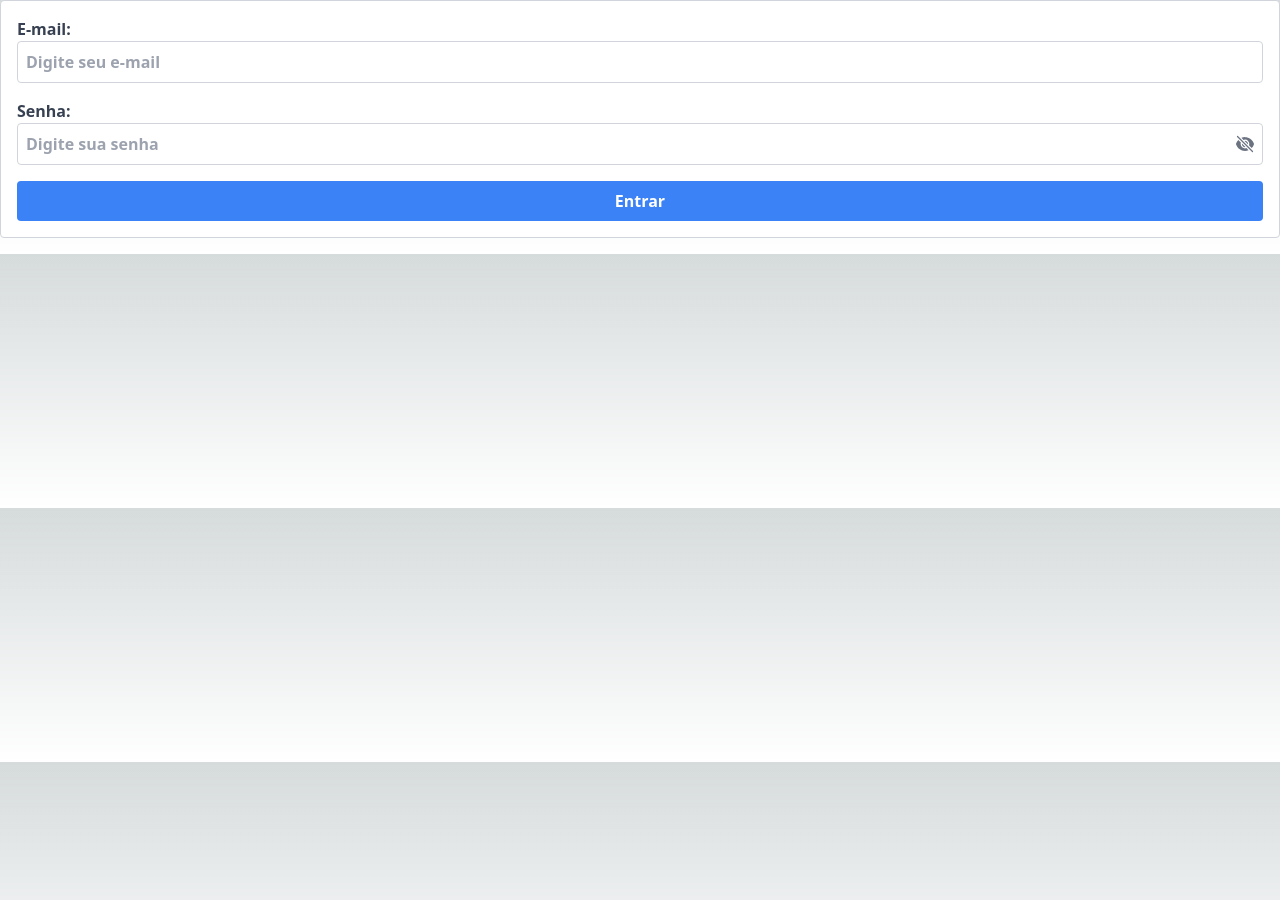
Test: LoginForm Component › displays error message for invalid login credentials
The width and height of the screenshot is (1280, 900).
Type "test@example.com" into the field with placeholder "Digite seu e-mail". click: (640, 62)
box: [17,41,1263,83]
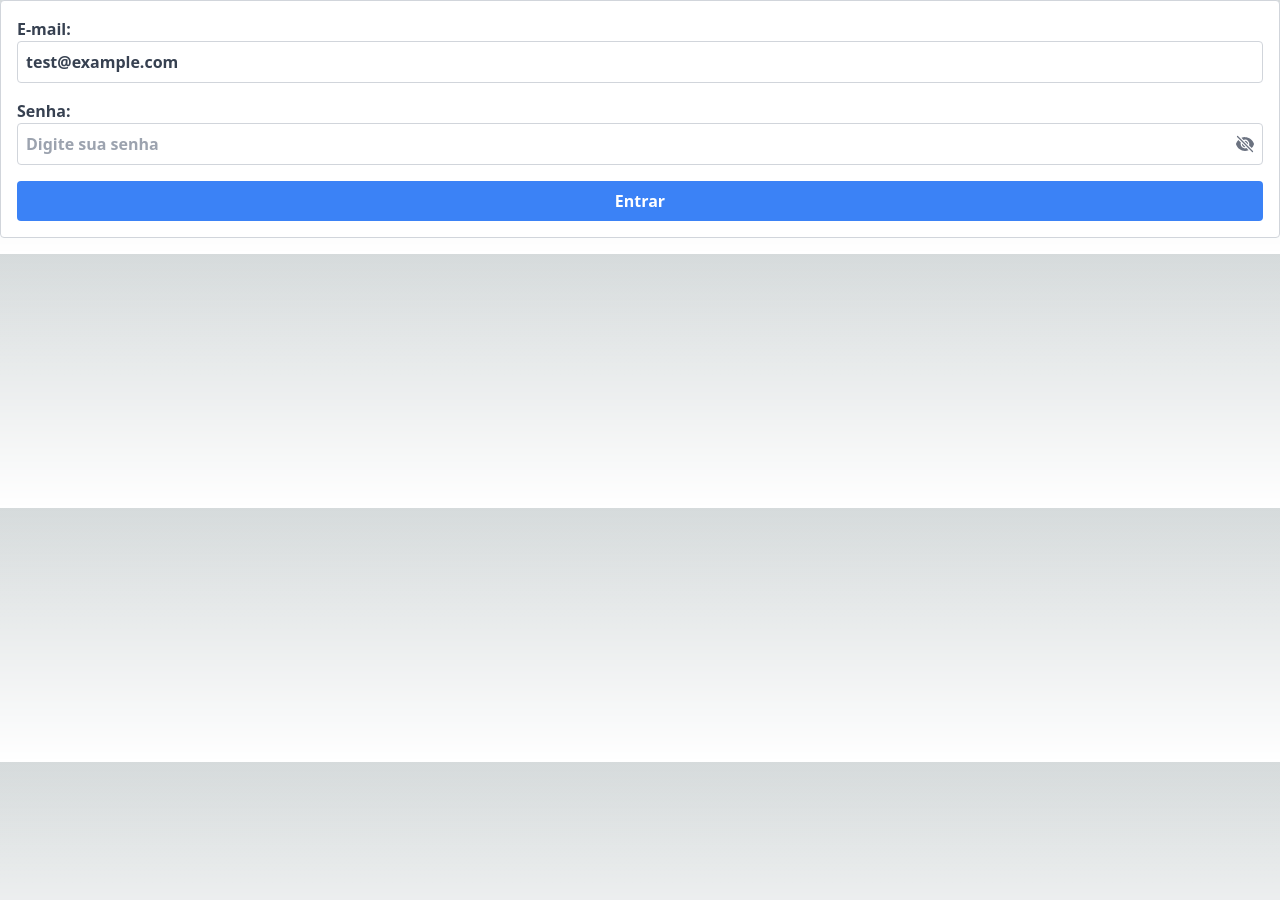
Type "invalidPassword" into the password field with placeholder "Digite sua senha". click: (640, 144)
box: [17,123,1263,165]
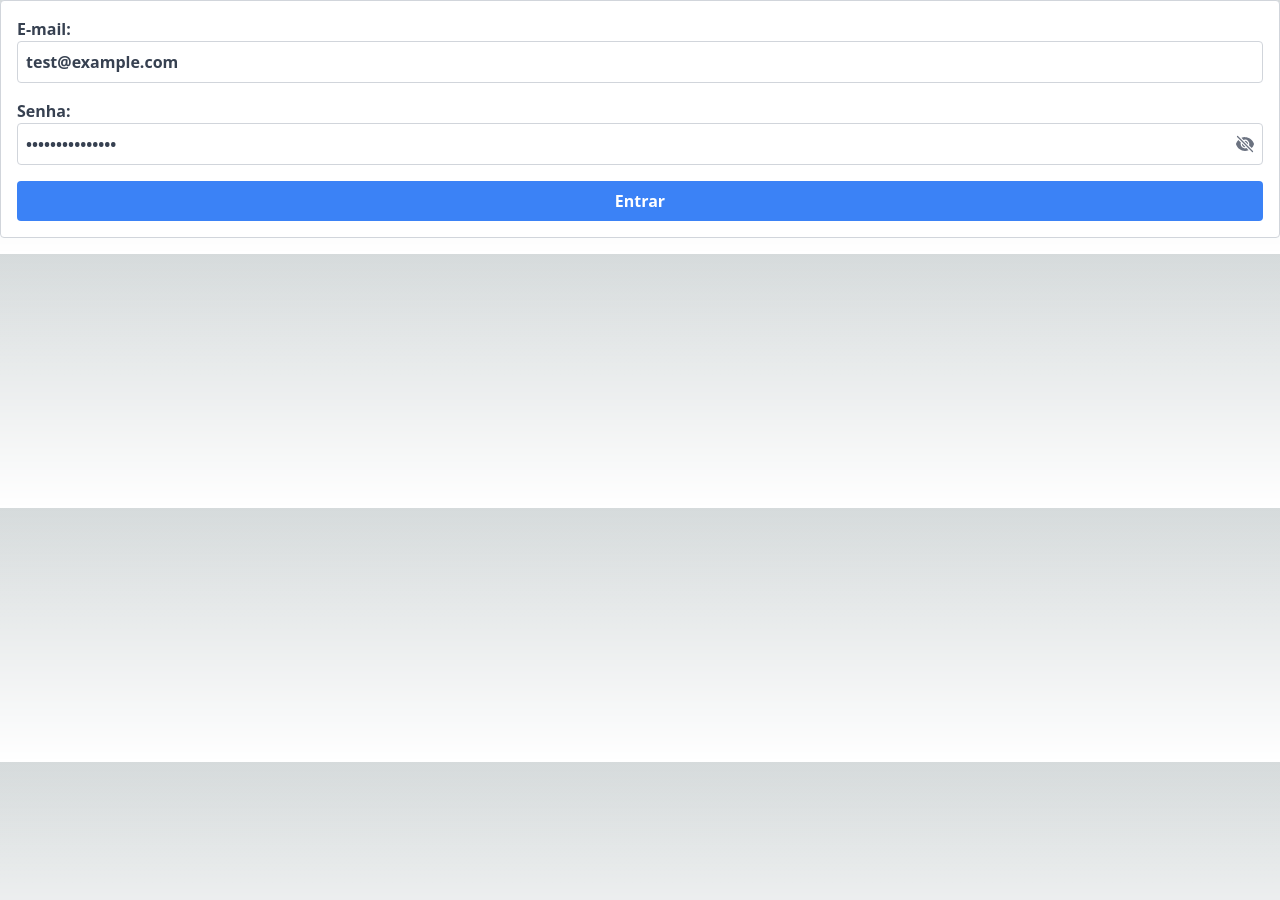
Click the button "Entrar". click: (640, 201)
box: [17,181,1263,221]
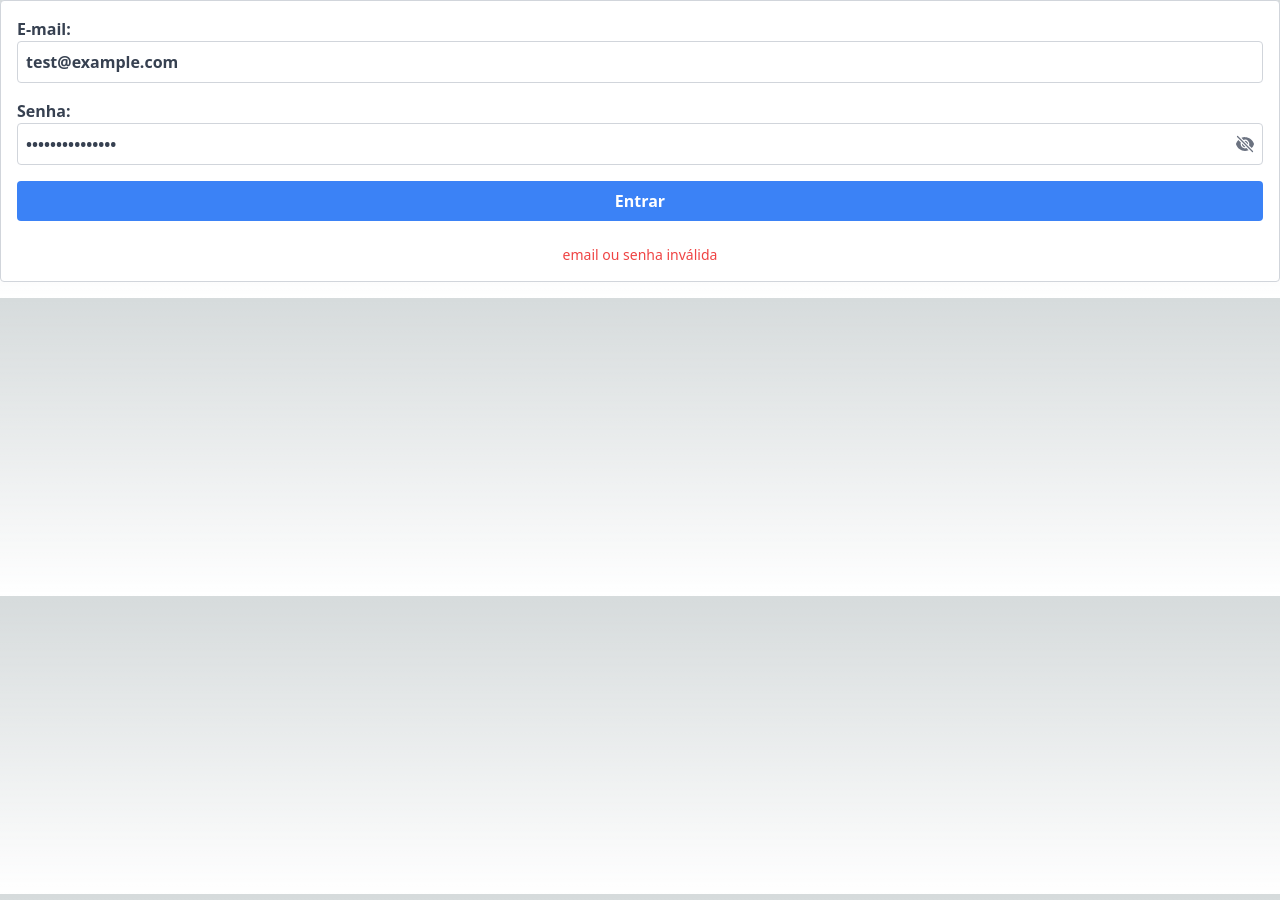
Now the text "email ou senha inválida" is shown, box [563,245,717,265]
